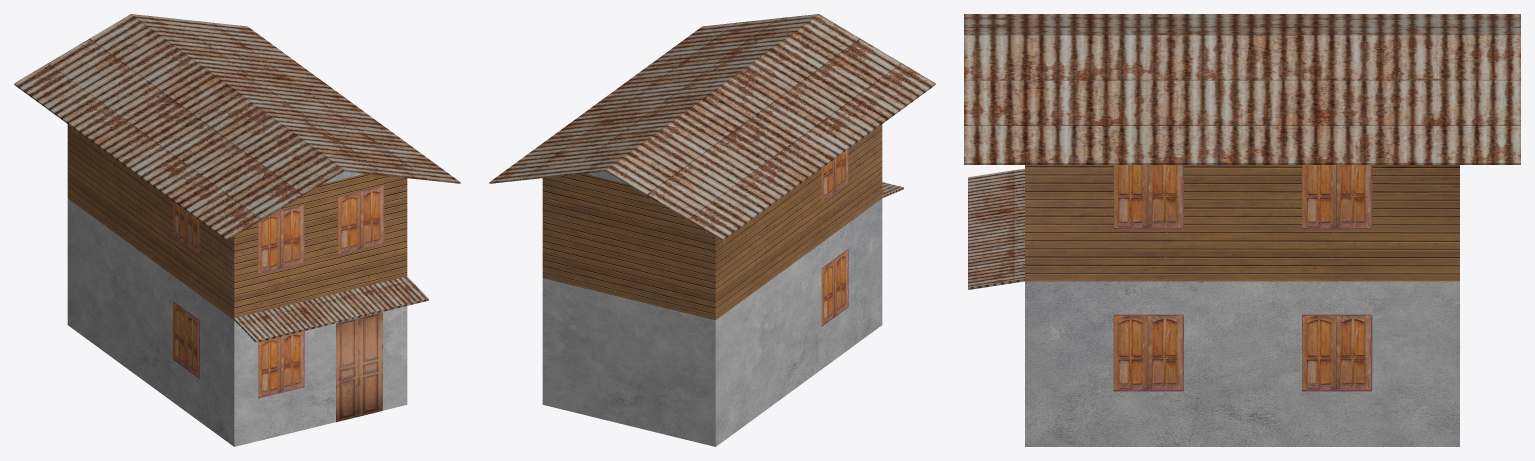
Rendered from House3.fbx.
3 renders of one model, left to right at view 1: azimuth 30°, elevation 25°; view 2: azimuth 150°, elevation 25°; view 3: azimuth 270°, elevation 25°, orthographic. The views are drawn at different scales.
Parts seen in each view (by area): view 1: House 3; view 2: House 3; view 3: House 3.
Boxes of the visible parts, x1,y1,x2,y2 form: House 3: (14,14,460,446); House 3: (489,14,935,446); House 3: (964,14,1520,446).
Size of the model in its own units: 547 by 611 by 864.
Materials: 1 (1 with a texture image).
